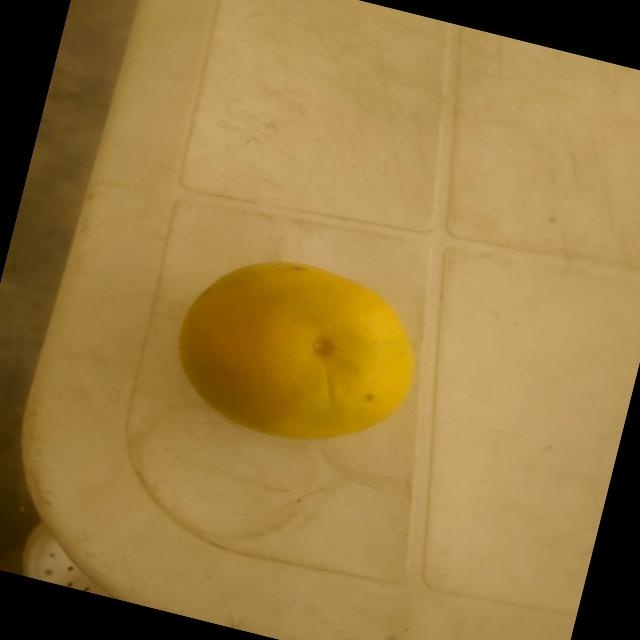agrume: (146, 226, 452, 482)
